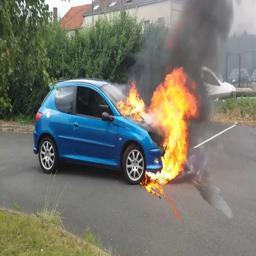fire: (118, 68, 201, 186)
